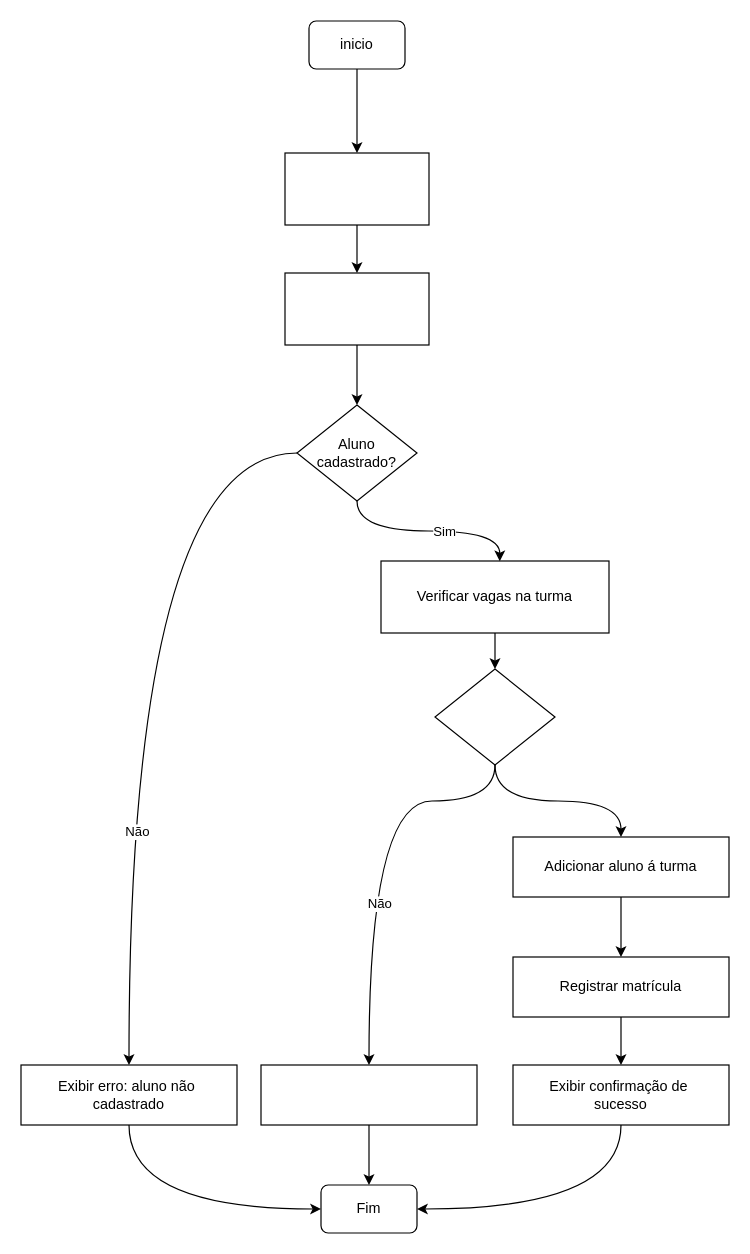
Some shapes in this 750 by 1254 pixel diagram are drawn without their labels. The centre of each missing label's shape, as x and y in pixels:
"Exibir erro: turma sem vagas" belongs at [368,1094].
"Receber solicitação de matrícula" belongs at [356,188].
"Turma com vaga?" belongs at [494,716].
"Verificar cadastro do aluno" belongs at [356,308].
